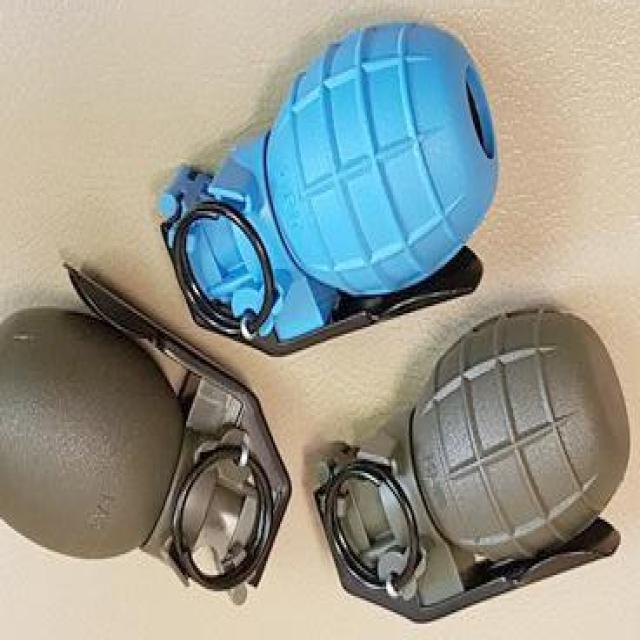grenade: (154, 20, 502, 358), (1, 258, 297, 611), (312, 310, 634, 623)
